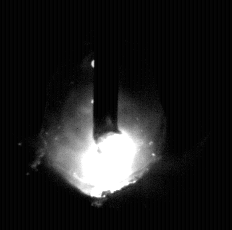arame: (94, 0, 120, 143)
poca: (39, 0, 166, 230)
